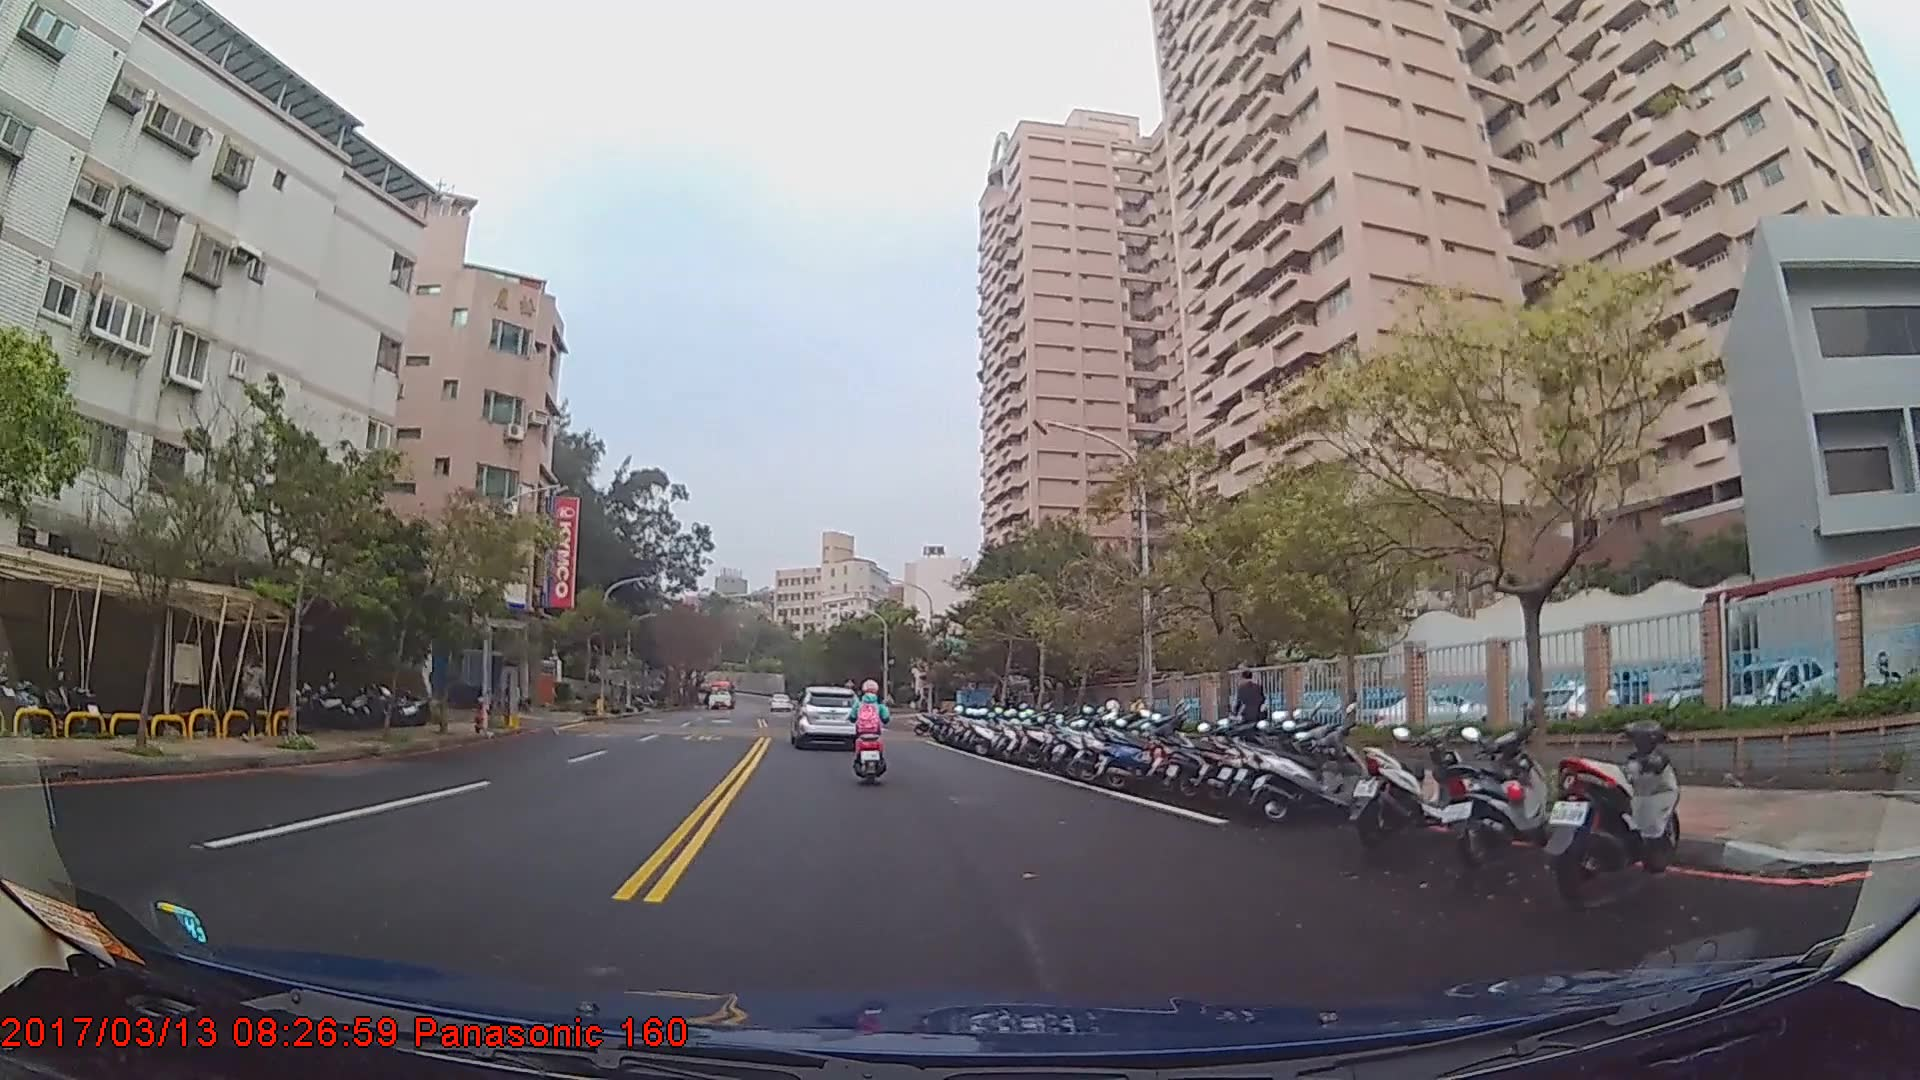pedestrian: (1234, 666, 1269, 754), (242, 652, 267, 741)
rider: (851, 679, 891, 773)
vehicle: (790, 683, 860, 750), (703, 679, 737, 710)
